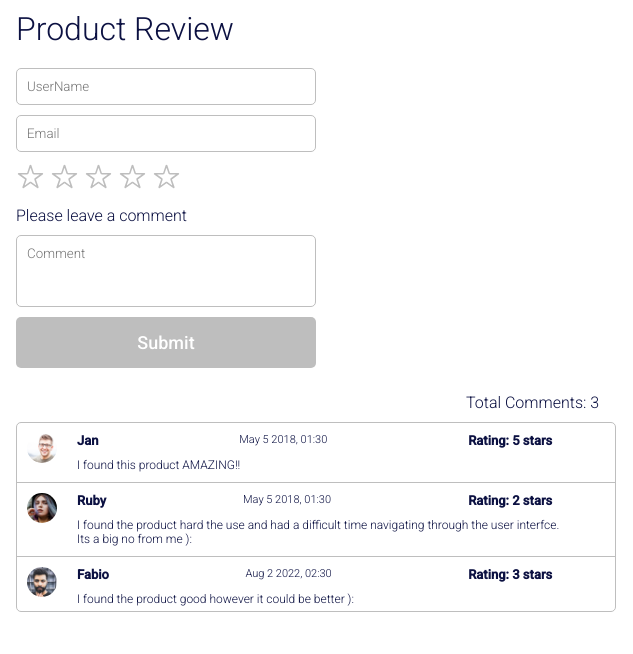
Test case: Submitting form with a input › Submitting email with a input, error should disapear
Submit the form from the button "Submit", box [16, 317, 316, 368]
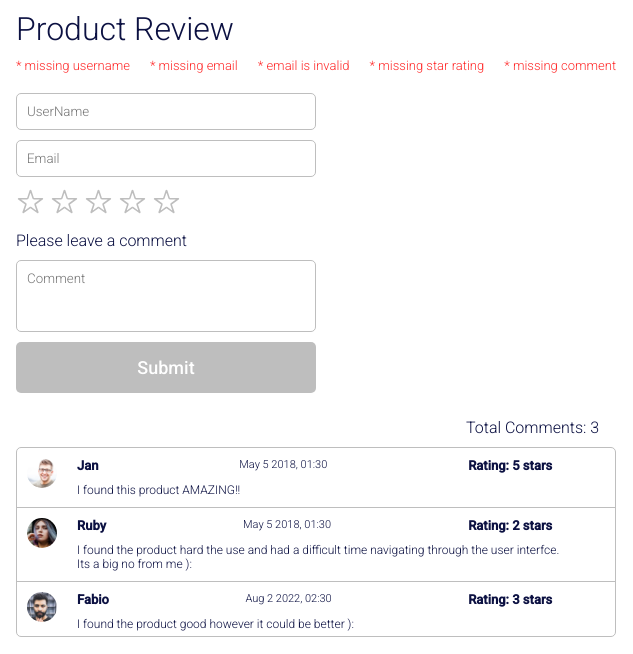
Expected: the text "* missing email" is shown, [150, 58, 238, 73]
Type "yaman@yahoo.com" into the field with placeholder "Email". click: (166, 158)
box: [16, 140, 316, 177]
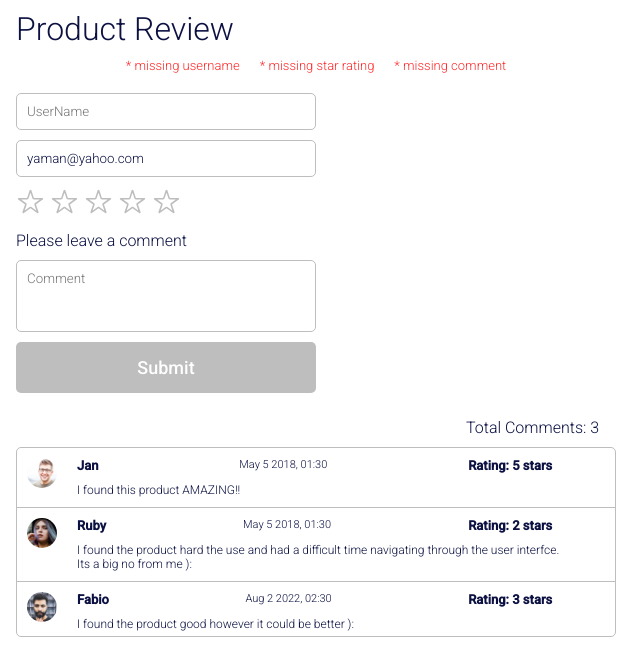
Expected: the text "missing email" is gone
